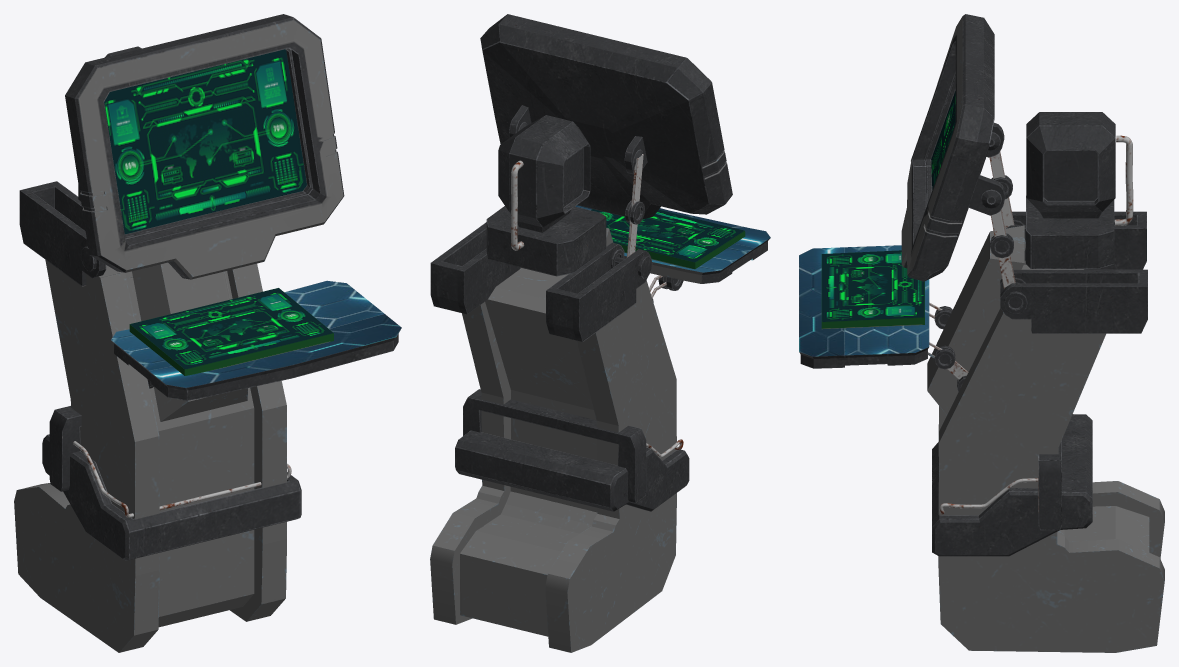
Rendered from scifi_computer_for_games.glb.
3 views of the same model, side by side, from view 1: azimuth 30°, elevation 25°; view 2: azimuth 150°, elevation 25°; view 3: azimuth 270°, elevation 25° (orthographic). The views are drawn at different scales.
Visible parts, largest first — view 1: pCube1, pCube35, pCube20, pCube29, pCube36, pCube2, pCube22, pCube32, sweep1; view 2: pCube35, pCube1, pCube29, pCube13, pCube22, pCube12, pCube36, pCube32, pCube8, pCube20, nurbsToPoly1, pCube23 (+1 smaller); view 3: pCube35, pCube1, pCube29, pCube13, pCube8, pCube20, pCube36, pCube2, pCube12, pCube22, pCube32, nurbsToPoly1 (+3 smaller).
Boxes of the visible parts, <box> form: pCube1: <box>65,14,344,279</box>; pCube35: <box>14,260,286,652</box>; pCube20: <box>111,280,401,400</box>; pCube29: <box>42,434,301,560</box>; pCube36: <box>129,288,333,375</box>; pCube2: <box>132,262,247,421</box>; pCube22: <box>19,181,106,286</box>; pCube32: <box>49,406,81,491</box>; sweep1: <box>73,441,291,517</box>; pCube35: <box>430,268,676,652</box>; pCube1: <box>480,14,732,218</box>; pCube29: <box>455,430,689,511</box>; pCube13: <box>498,115,590,232</box>; pCube22: <box>546,242,651,341</box>; pCube12: <box>486,206,606,276</box>; pCube36: <box>591,209,745,269</box>; pCube32: <box>463,389,646,502</box>; pCube8: <box>430,222,520,314</box>; pCube20: <box>575,205,770,283</box>; nurbsToPoly1: <box>511,160,524,250</box>; pCube23: <box>627,154,643,257</box>; pCube35: <box>938,261,1164,652</box>; pCube1: <box>901,14,994,281</box>; pCube29: <box>932,414,1092,556</box>; pCube13: <box>1026,112,1115,218</box>; pCube8: <box>1000,269,1147,333</box>; pCube20: <box>799,245,929,368</box>; pCube36: <box>821,250,924,329</box>; pCube2: <box>927,225,1024,414</box>; pCube12: <box>1026,196,1114,268</box>; pCube22: <box>1006,211,1146,269</box>; pCube32: <box>1038,440,1061,530</box>; nurbsToPoly1: <box>1114,135,1133,226</box>.
Bounding box in the file's own units: 0.0404 × 0.0926 × 0.055.
Materials: 2 (2 with a texture image).
